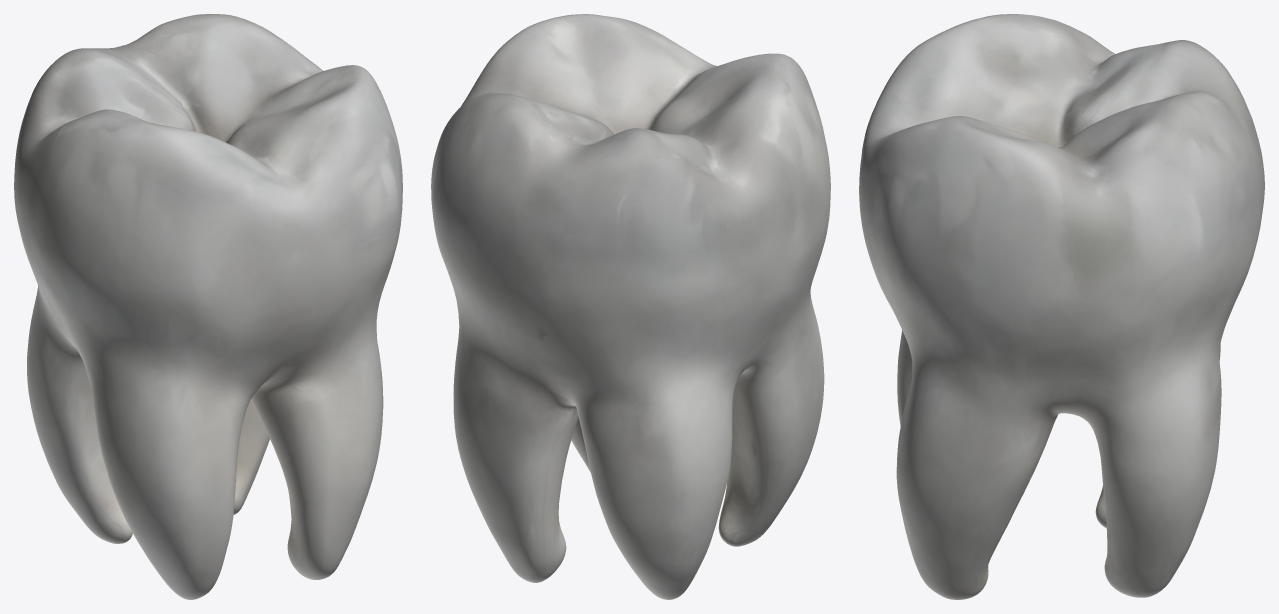
The model's file is tooth-web.glb.
3 views of the same model, side by side, from view 1: azimuth 30°, elevation 25°; view 2: azimuth 150°, elevation 25°; view 3: azimuth 270°, elevation 25° (orthographic). The views are drawn at different scales.
Visible parts, largest first — view 1: model; view 2: model; view 3: model.
Boxes of the visible parts, x1,y1,x2,y2 form: model: (14,14,402,599); model: (431,14,830,599); model: (859,14,1264,599).
Size of the model in its own units: 1.36 by 1.9 by 1.4.
Materials: 1 (1 with a texture image).
